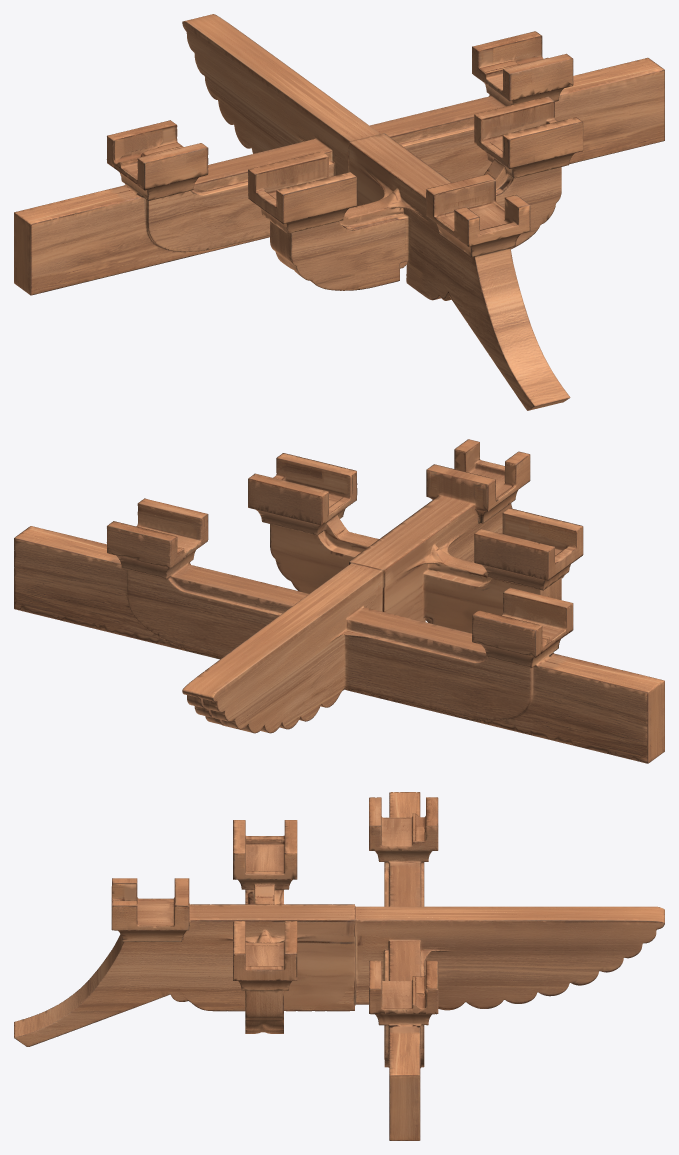
File: 组件集合叁.glb
3 views of the same model, one above another, from view 1: azimuth 30°, elevation 25°; view 2: azimuth 150°, elevation 25°; view 3: azimuth 270°, elevation 25° (orthographic). The views are drawn at different scales.
Size of the model in its own units: 1.9 by 0.4756 by 1.84.
Materials: 1 (1 with a texture image).
